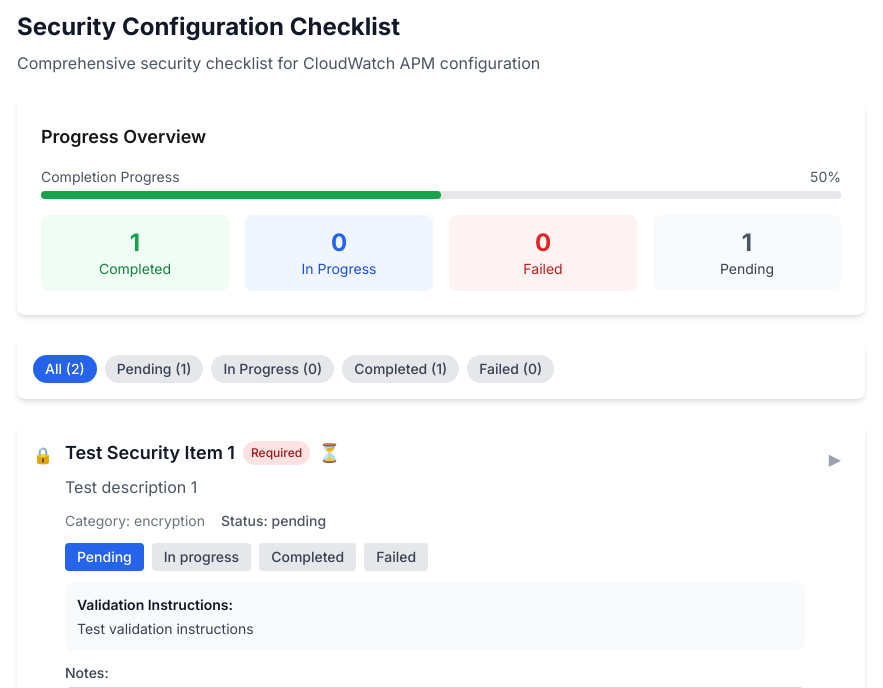
it: SecurityChecklist › shows empty state when no items match filters
Note: Filter by failed status (no items have this status)
Click the button "Failed (0)" at (511,369), box [467,355,554,383]
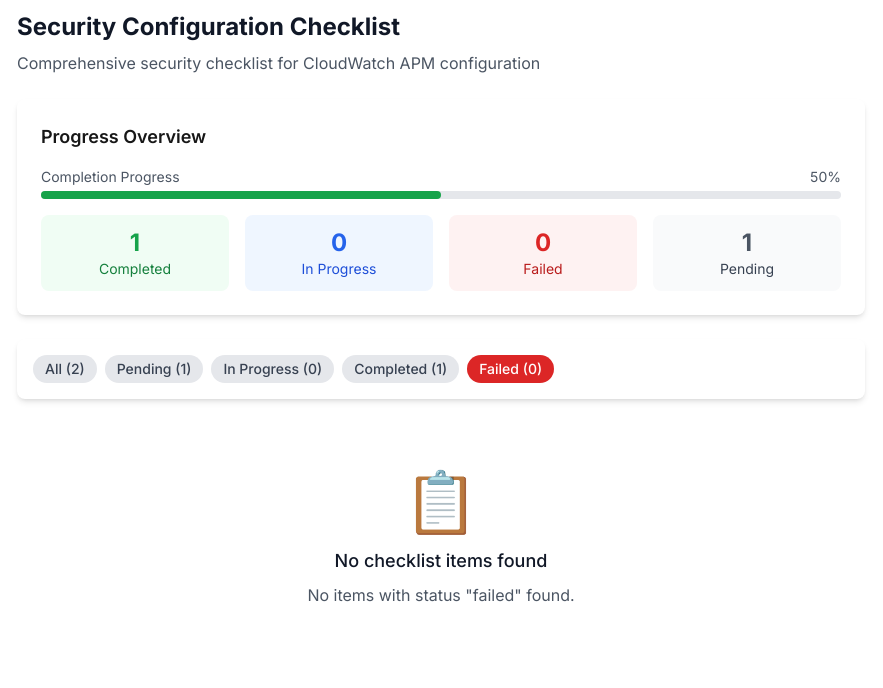
Check: the heading "No checklist items found" is shown, box [335,550,547,571]
